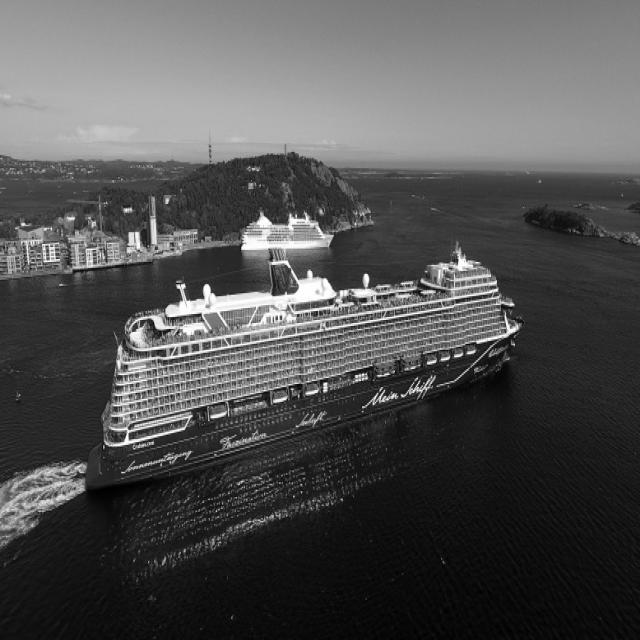cruises: (83, 241, 527, 503), (239, 208, 337, 257)
